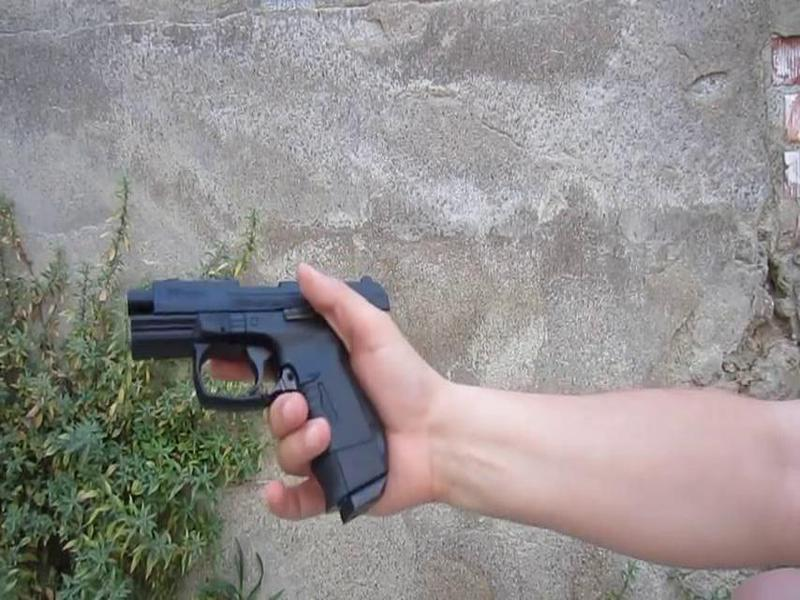Pistola: (110, 239, 443, 552)
